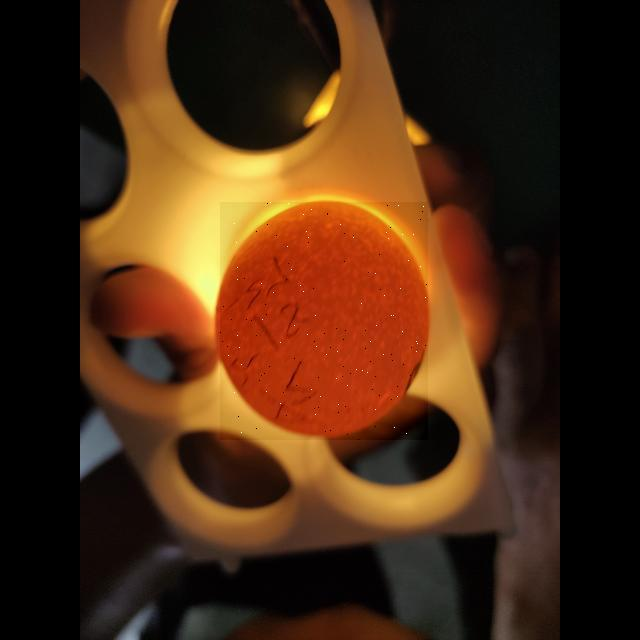Infertile: (220, 202, 428, 440)
